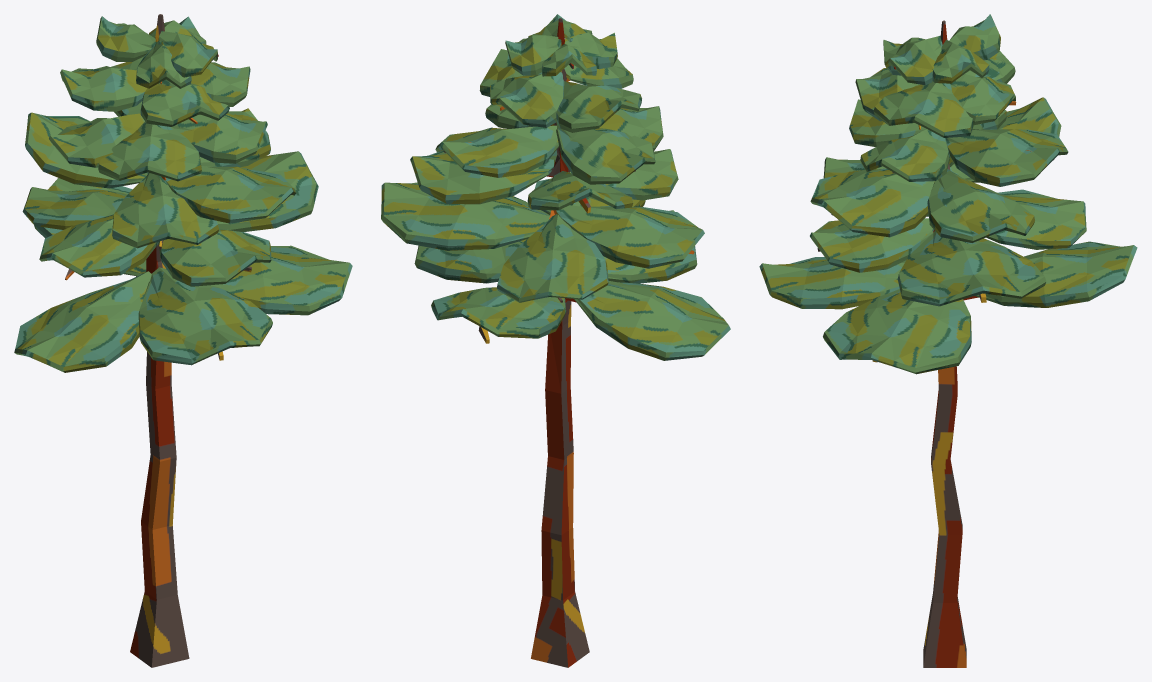
The model's file is Tree.fbx.
The picture shows the model from 3 angles, left to right: view 1: azimuth 30°, elevation 25°; view 2: azimuth 150°, elevation 25°; view 3: azimuth 270°, elevation 25°; orthographic projection.
Parts seen in each view (by area): view 1: Trunk; view 2: Trunk; view 3: Trunk.
Boxes of the visible parts, x1,y1,x2,y2 form: Trunk: (14, 14, 352, 667); Trunk: (381, 14, 730, 667); Trunk: (759, 14, 1137, 667).
Bounding box in the file's own units: 2080 × 4064 × 2185.
1 material, 1 textured.
